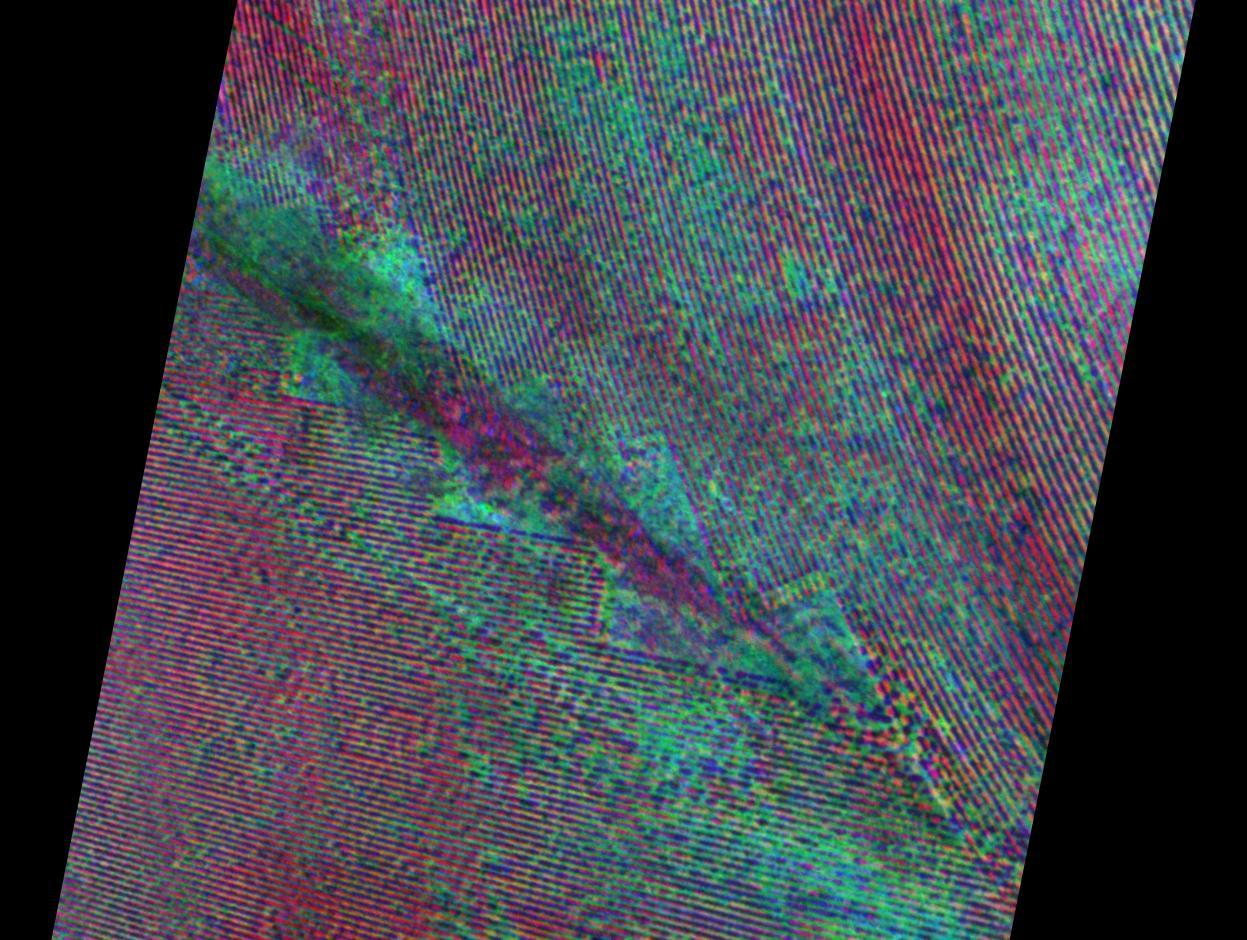dc: (361, 242, 446, 341), (561, 86, 641, 160), (710, 811, 777, 884), (214, 194, 289, 258), (785, 597, 853, 665), (677, 182, 734, 247)
